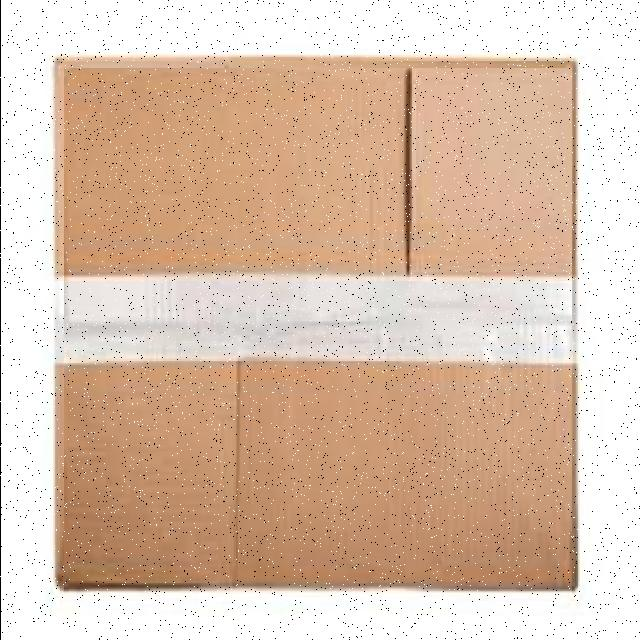normal: (63, 68, 571, 595)
